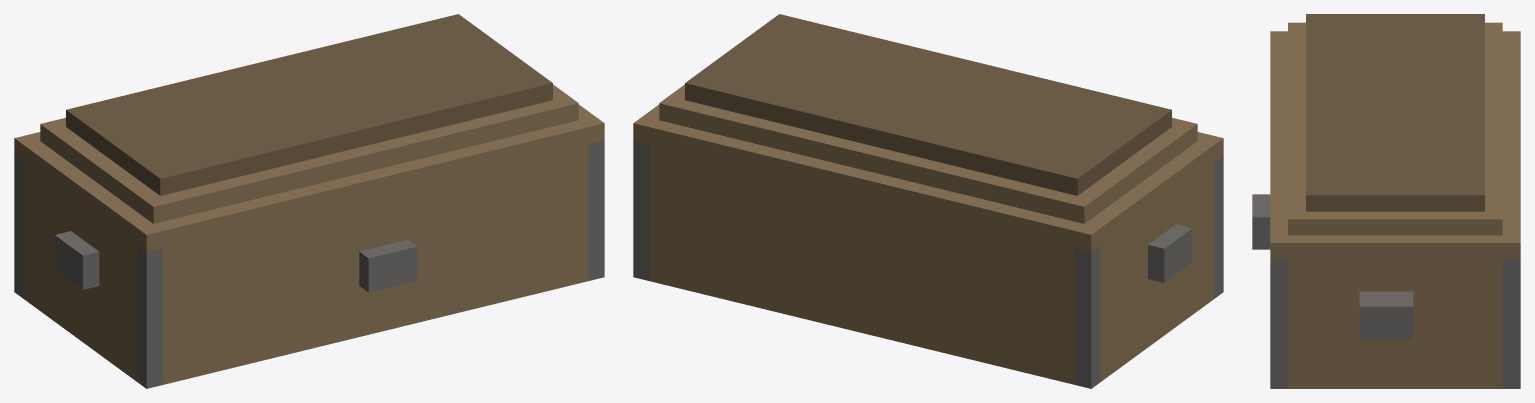
Rendered from baul_roble_herrajes_01.glb.
The picture shows the model from 3 angles, left to right: view 1: azimuth 30°, elevation 25°; view 2: azimuth 150°, elevation 25°; view 3: azimuth 270°, elevation 25°; orthographic projection. The views are drawn at different scales.
Parts seen in each view (by area): view 1: baul_roble_herrajes; view 2: baul_roble_herrajes; view 3: baul_roble_herrajes.
Boxes of the visible parts, x1,y1,x2,y2 form: baul_roble_herrajes: (14,14,604,388); baul_roble_herrajes: (633,14,1223,388); baul_roble_herrajes: (1252,14,1520,388).
Bounding box in the file's own units: 2.21 × 0.7857 × 1.07.
